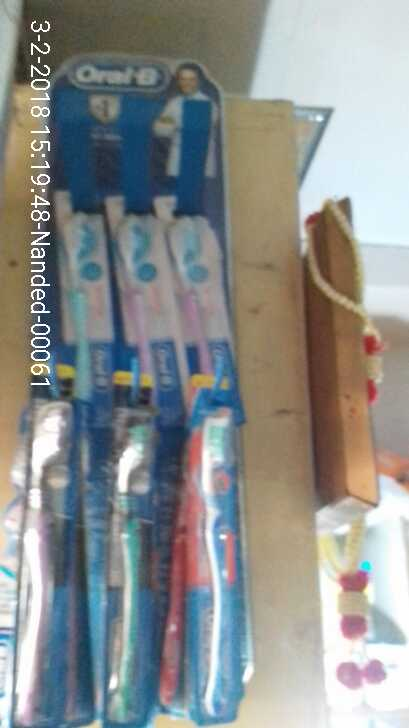oralb: (110, 418, 155, 713), (169, 204, 222, 423), (24, 404, 61, 713), (195, 415, 232, 721), (116, 199, 163, 420), (60, 195, 101, 403)
